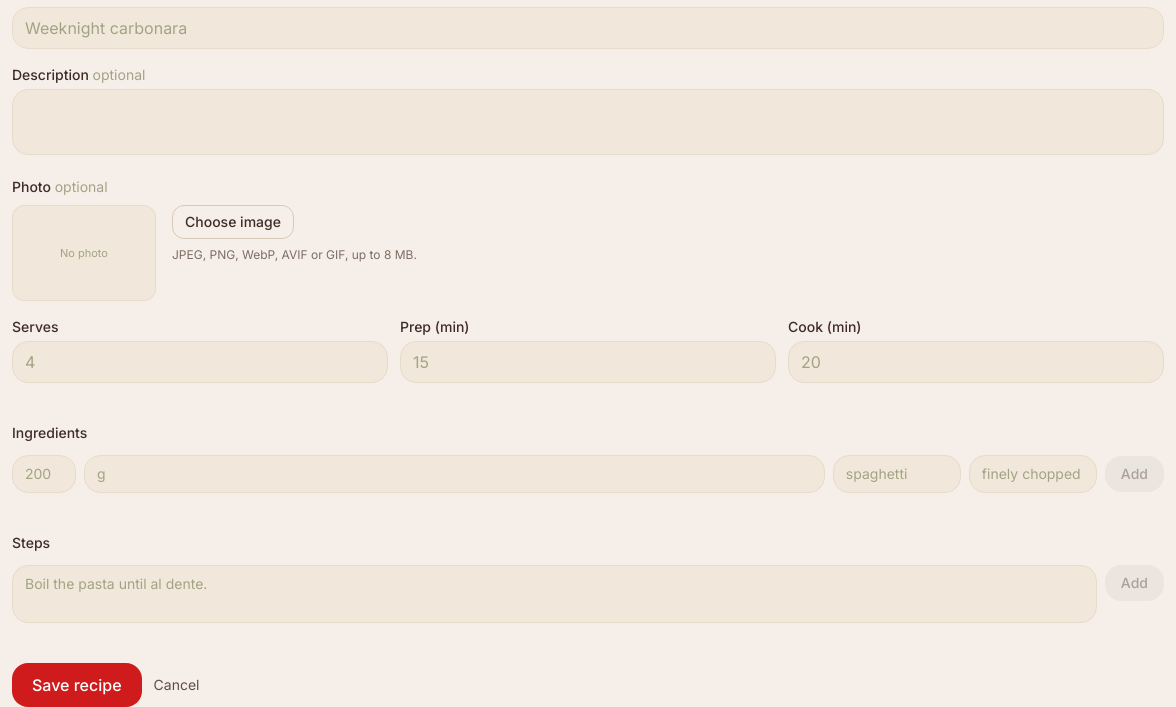
it: RecipeForm — submission › restores every committed row from the server's echo
Click the button "Save recipe". click: (77, 685)
box: [12, 663, 142, 706]
(page scrolled)
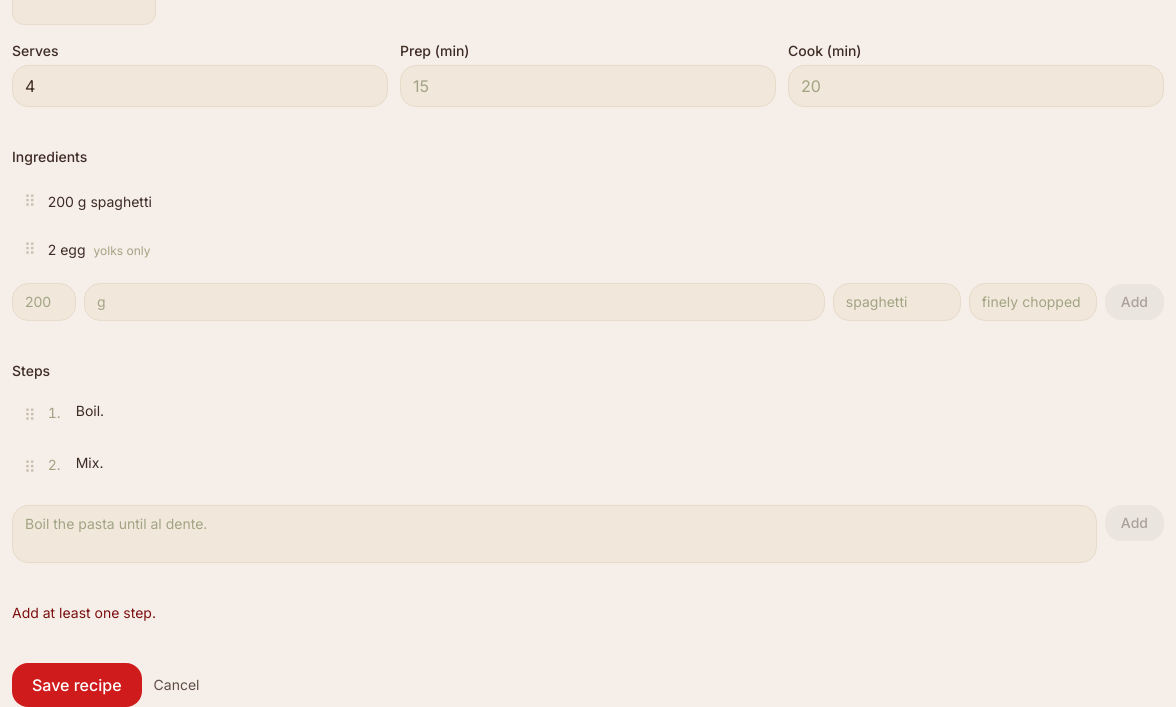
Check: the message "Add at least one step." is shown, box [12, 604, 156, 621]
Check: the text "200 g spaghetti" is shown, box [48, 193, 152, 210]
Check: the text "2 egg" is shown, box [48, 241, 86, 258]
